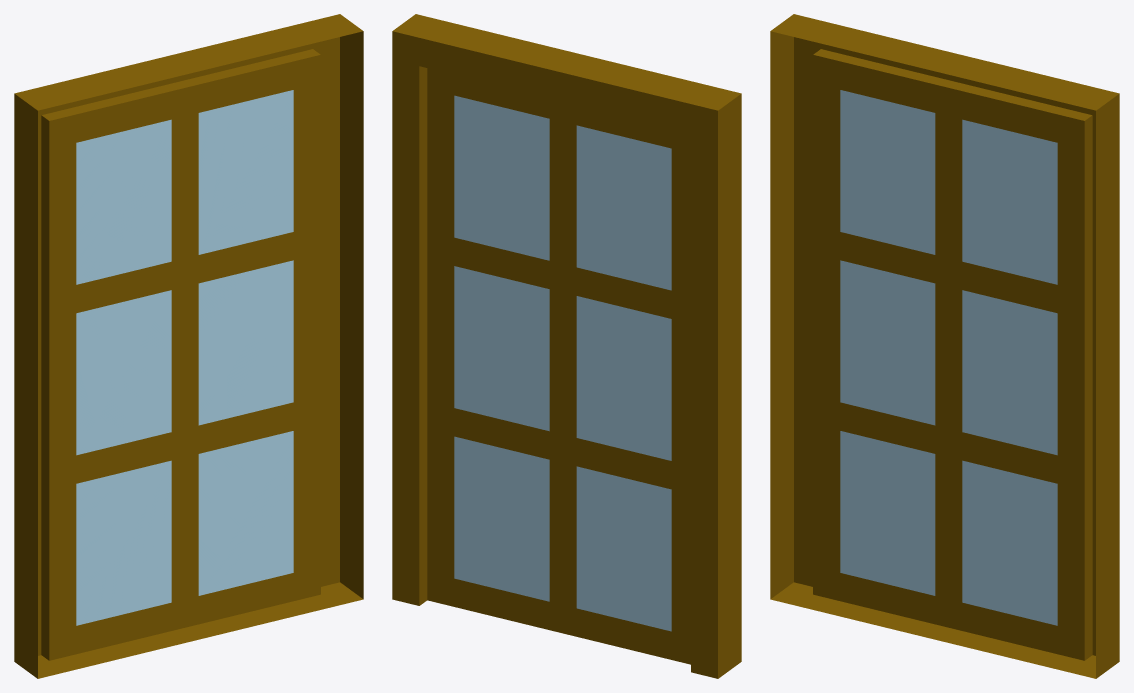
The model's file is TwoThreeWindowDoor.fbx.
3 views of the same model, side by side, from view 1: azimuth 30°, elevation 25°; view 2: azimuth 150°, elevation 25°; view 3: azimuth 330°, elevation 25° (orthographic).
Parts seen in each view (by area): view 1: TwoThreeWindowDoor_LOD0; view 2: TwoThreeWindowDoor_LOD0; view 3: TwoThreeWindowDoor_LOD0.
Part boxes in pixels (box(x1,y1,x2,y2)): TwoThreeWindowDoor_LOD0: box(14, 14, 363, 678); TwoThreeWindowDoor_LOD0: box(392, 14, 741, 678); TwoThreeWindowDoor_LOD0: box(770, 14, 1119, 678).
Size of what is drawn, in the model's own units: 240 by 400 by 30.
